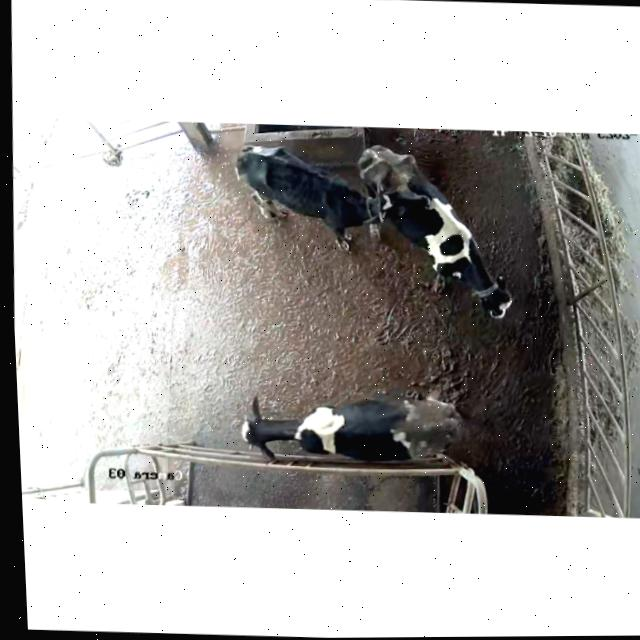propping: (337, 174, 447, 238)
